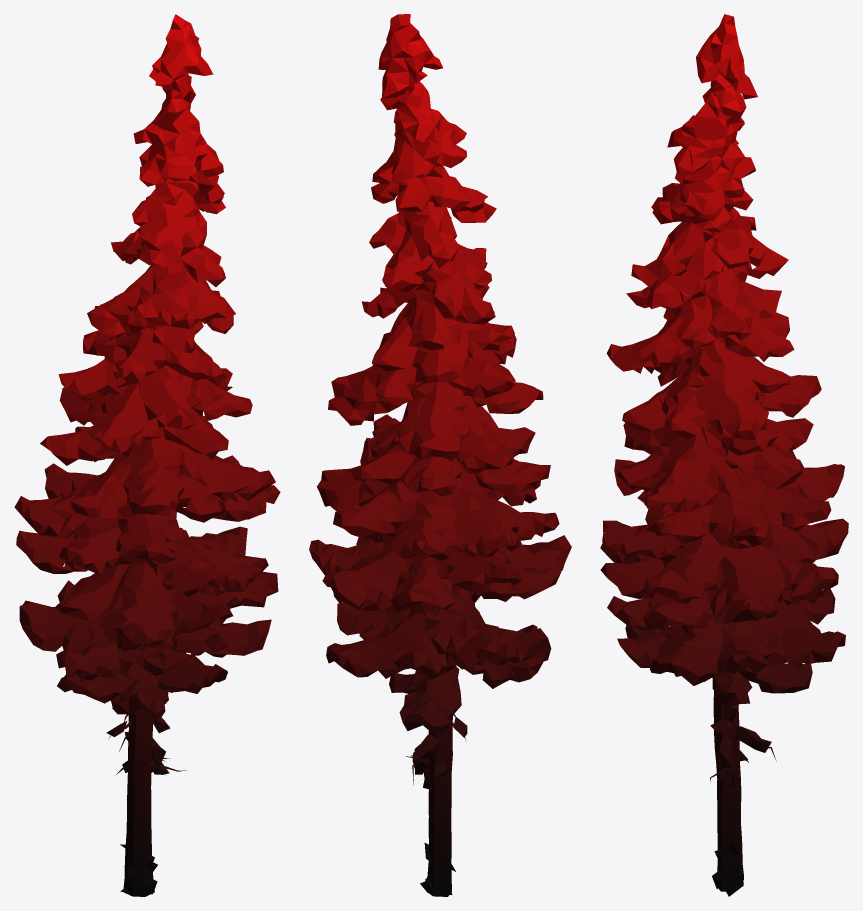
The model's file is TreeSpruceTall07_Snow.fbx.
3 views of the same model, side by side, from view 1: azimuth 30°, elevation 25°; view 2: azimuth 150°, elevation 25°; view 3: azimuth 270°, elevation 25° (orthographic). The views are drawn at different scales.
Visible parts, largest first — view 1: TreeSpruceTall07_Snow_LOD0; view 2: TreeSpruceTall07_Snow_LOD0; view 3: TreeSpruceTall07_Snow_LOD0.
Part boxes in pixels (x1,y1,x2,y2): TreeSpruceTall07_Snow_LOD0: (14,14,280,896); TreeSpruceTall07_Snow_LOD0: (309,14,571,896); TreeSpruceTall07_Snow_LOD0: (600,14,848,896).
Size of what is drawn, in the model's own units: 441 by 1686 by 425.
